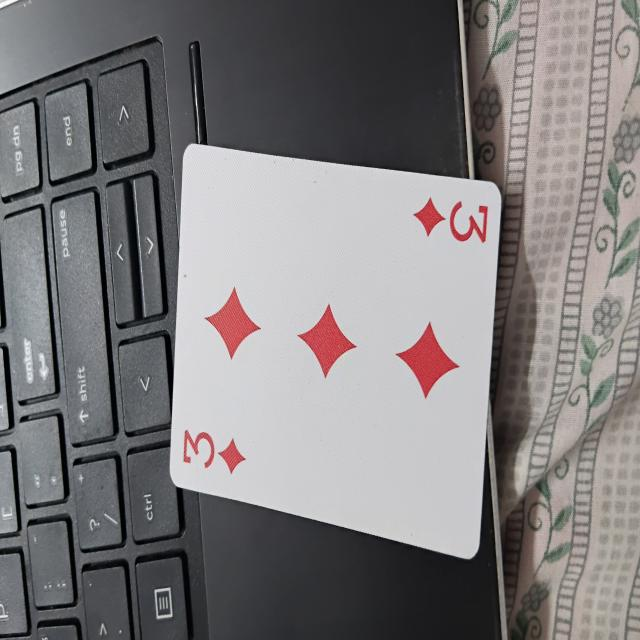3D: (167, 132, 508, 562)
